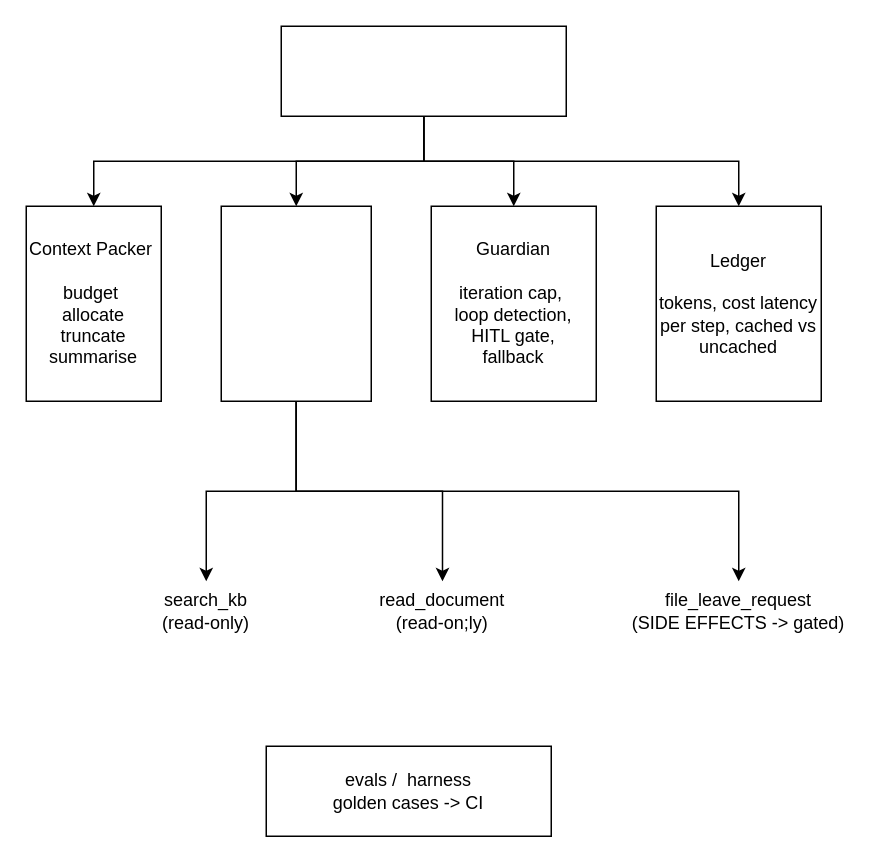
Some shapes in this 878 by 863 pixel diagram are drawn without their labels. The box of each missing label's shape, as (x1, y1, x2, y2) in pixels:
run(task) - the agent loop while stop_reason == 'tool_use': (280, 25, 566, 116)
Tool Registry Zod schemas -> JSONSchema Validate execute: (220, 205, 371, 401)
